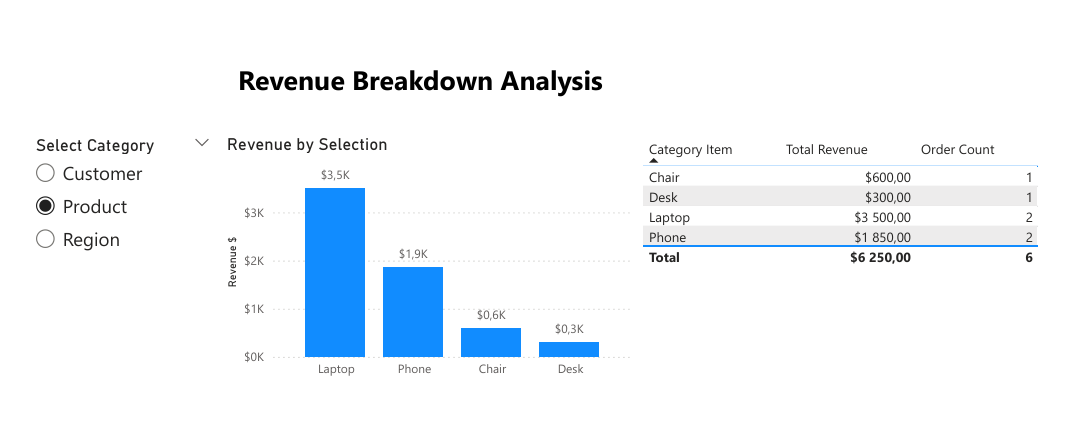

What the dashboard file says about the page in this screenshot:
{"tool":"powerbi","page":{"name":"Breakdown Product","canvas":[1280,720],"ordinal":3},"visuals":[{"type":"slicer","fields":{"Values":["Supabase Snippet revenue_breakdown sql.breakdown_type"]},"box":[0,107,199.2,139.7],"z":0},{"type":"clusteredColumnChart","title":"Revenue by Selection","fields":{"Category":["Supabase Snippet revenue_breakdown sql.dimension"],"Y":["Sum(Supabase Snippet revenue_breakdown sql.revenue)"]},"box":[199.2,111.3,415.7,252.7],"z":1000},{"type":"tableEx","fields":{"Values":["Supabase Snippet revenue_breakdown sql.dimension","Sum(Supabase Snippet revenue_breakdown sql.revenue)","Sum(Supabase Snippet revenue_breakdown sql.order_count)"]},"box":[615,111.3,415.7,155.3],"z":2000},{"type":"textbox","box":[199.2,32.8,396.8,74.2],"z":3000}]}

Visuals, with their boxes on the page's 1280x720 design canvas (x1, y1, x2, y2). These are canvas units, not pixel positions in the 1076x448 screenshot, which may show the page scaled, cropped or inside an application window:
slicer - Supabase Snippet revenue_breakdown sql.breakdown_type: 0,107,199,247
"Revenue by Selection" clusteredColumnChart: 199,111,615,364
tableEx - Supabase Snippet revenue_breakdown sql.dimension x Sum(Supabase Snippet revenue_breakdown sql.revenue): 615,111,1031,267
textbox: 199,33,596,107
